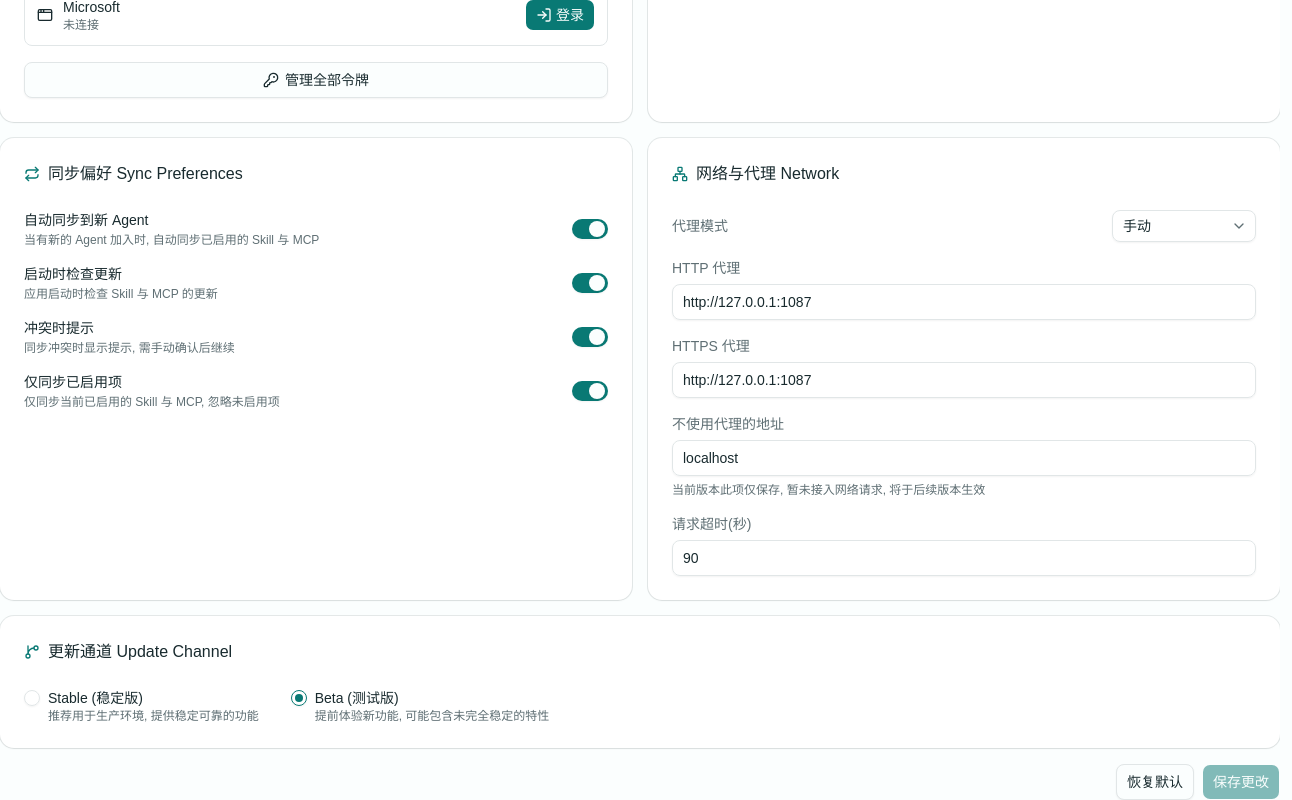
Test case: SettingRespVO 页面 › 点击"恢复默认"应把本地态重置为硬编码默认值(而非回到已加载的设置)
(page scrolled)
Expected: the radio button named "Beta (测试版)" is checked, 291,690 -> 307,706
Click the button "恢复默认" at [1155, 782], box 1116,764 -> 1194,799
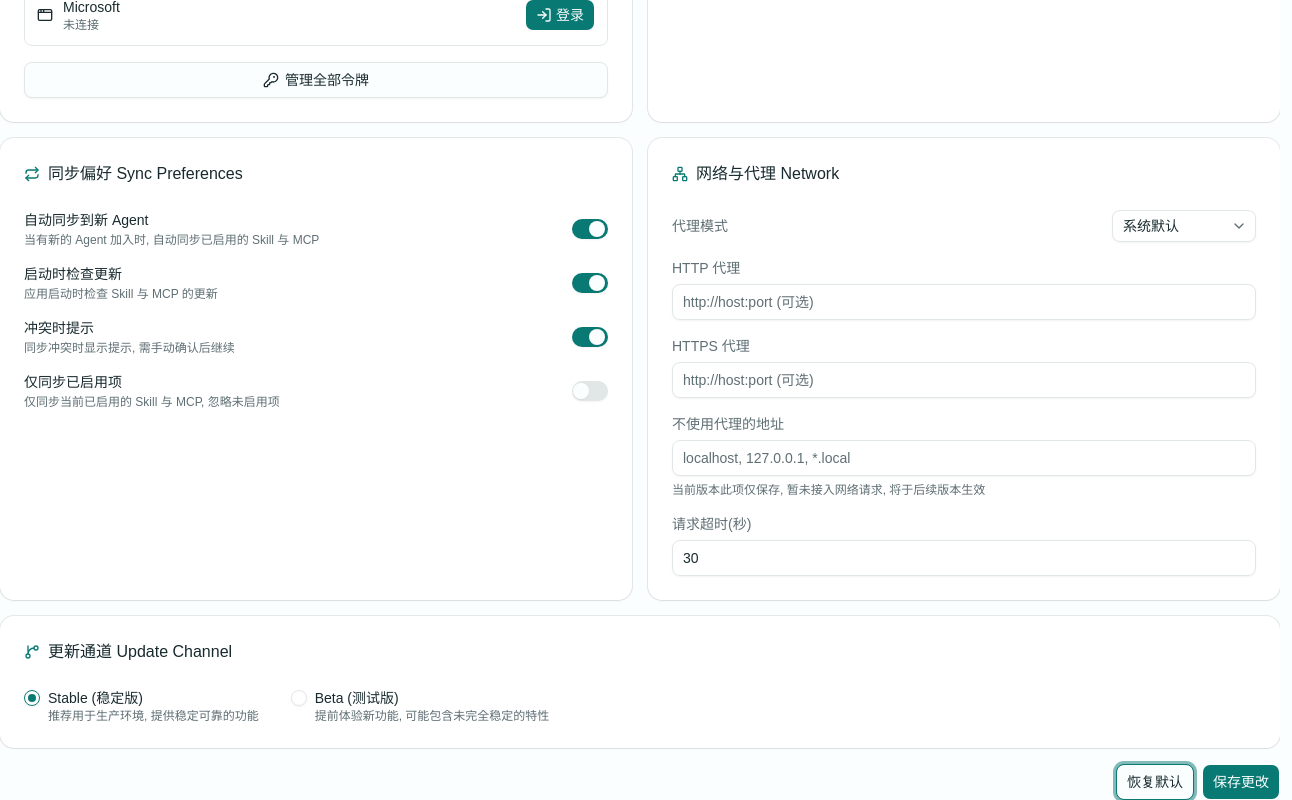
Expected: the number field labelled "请求超时(秒)" holds "30", 672,540 -> 1256,576
Expected: the switch named "仅同步已启用项" is not checked, 572,381 -> 608,401
Expected: the radio button named "Stable (稳定版)" is checked, 24,690 -> 40,706
